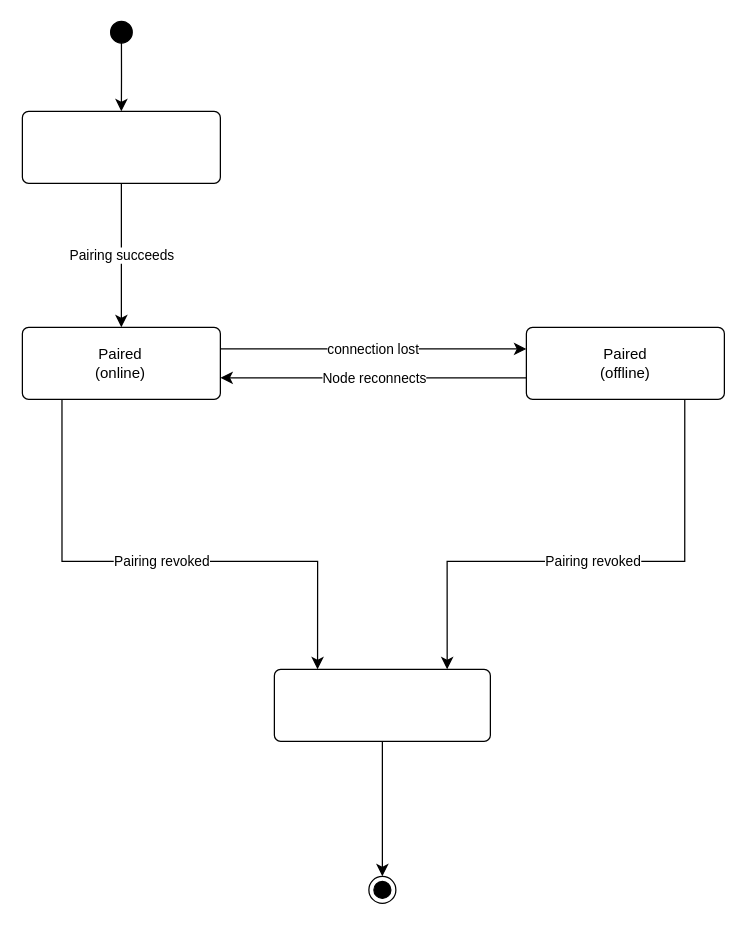
Image size: 746x926. Some labels were removed from this diagram. The shapes that lost their labels are listed below. From the top down, each one's box as (x1, y1, x2, y2) in pixels, then its label:
(21, 110, 220, 183): Unpaired
(273, 668, 490, 741): Revoked
